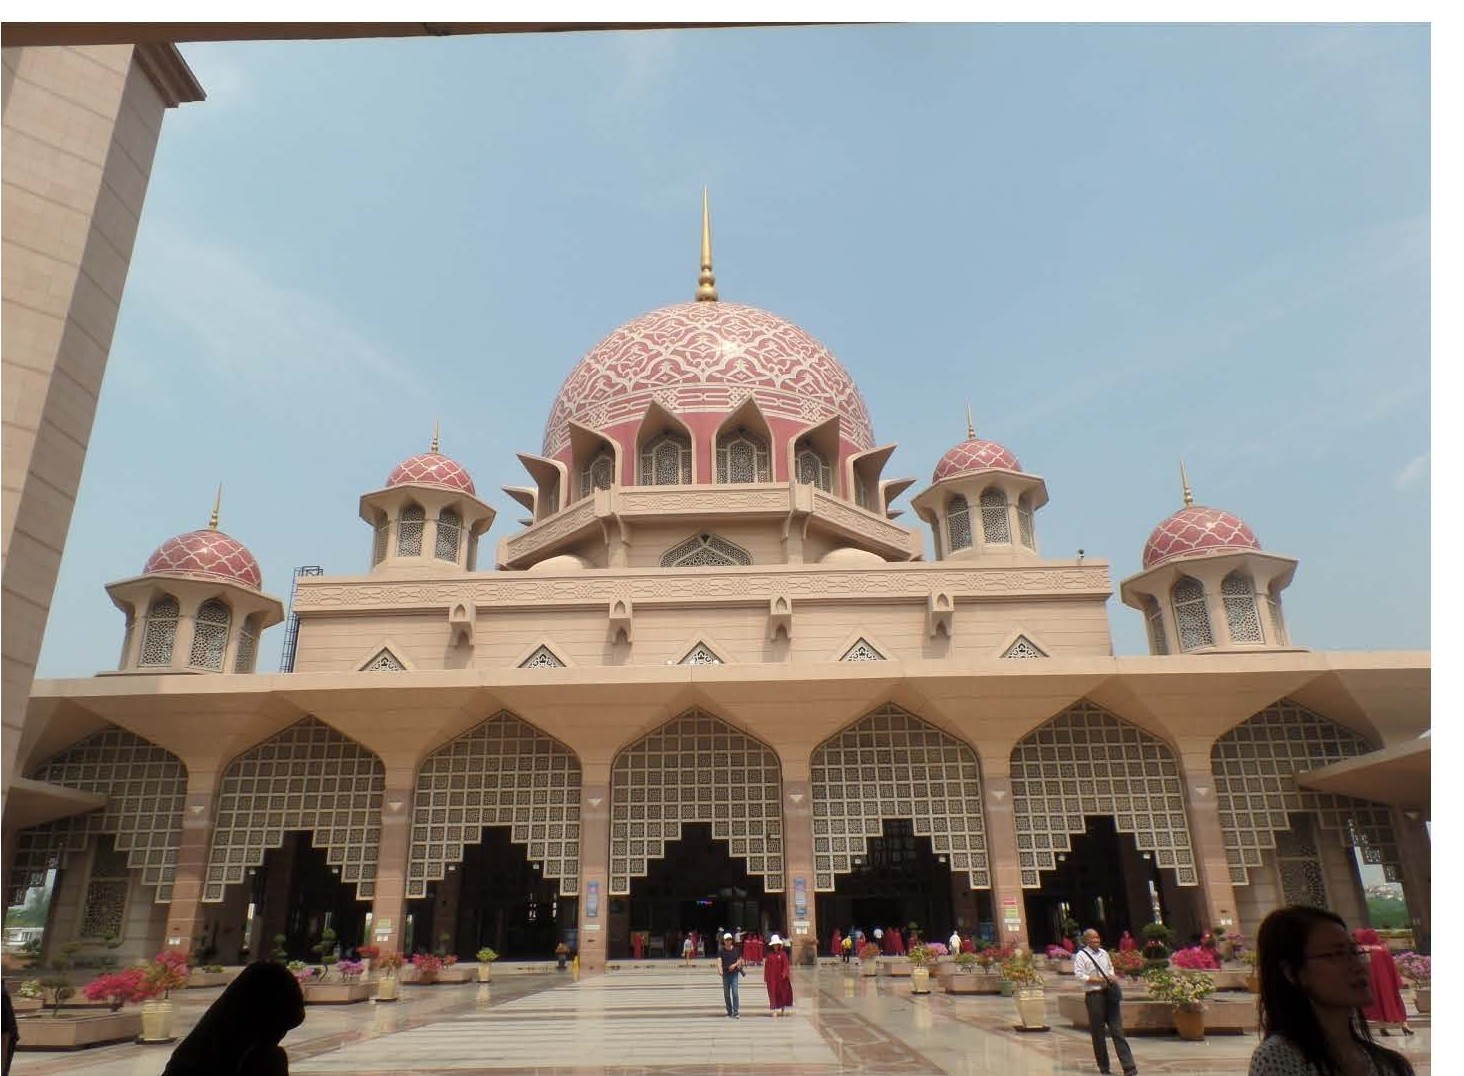Mosque: (17, 155, 1415, 918)
